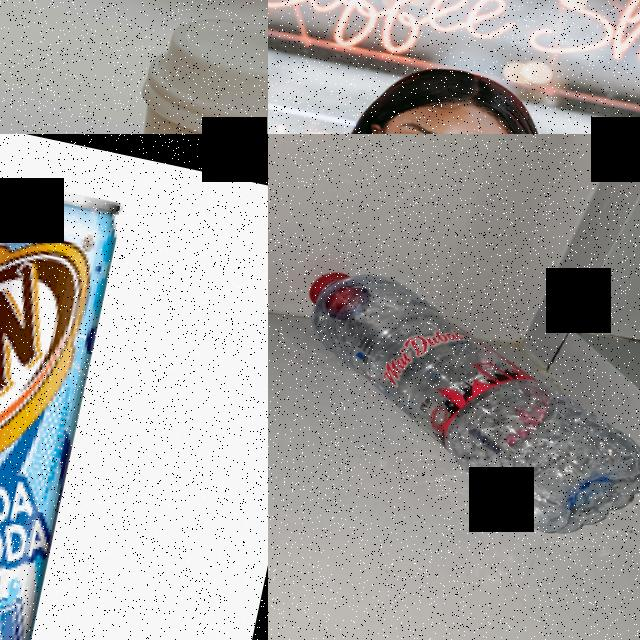bottle: (273, 265, 640, 553)
can: (0, 152, 126, 640)
cup: (268, 0, 640, 134), (40, 0, 268, 134)
